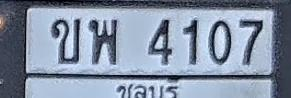0: (208, 19, 231, 64)
1: (184, 18, 198, 64)
4: (148, 18, 172, 64)
7: (239, 18, 263, 64)
A02: (50, 18, 80, 64)
A30: (89, 18, 118, 64)
CBI: (113, 76, 182, 98)
